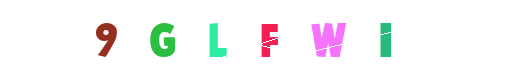9: (66, 0, 146, 80)
F: (220, 0, 300, 80)
G: (182, 0, 262, 80)
I: (277, 0, 357, 80)
L: (206, 0, 286, 80)
W: (228, 0, 308, 80)
